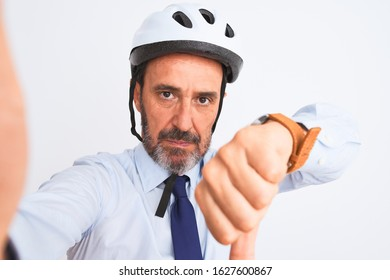helmet: (129, 2, 244, 174)
